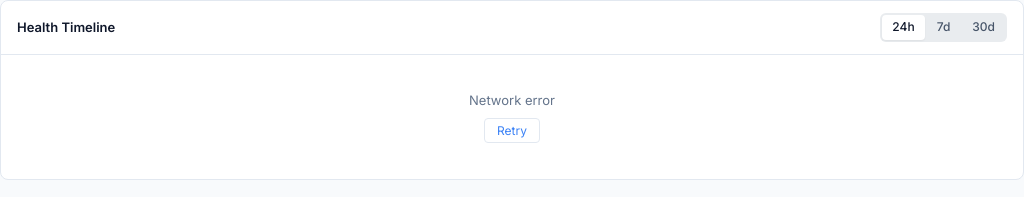
Test case: HealthTimeline › shows error state and allows retry
The width and height of the screenshot is (1024, 197).
Check: the text "Network error" is shown, box [469,91,555,110]
Click the button "Retry" at (512, 131), box [484,118,540,143]
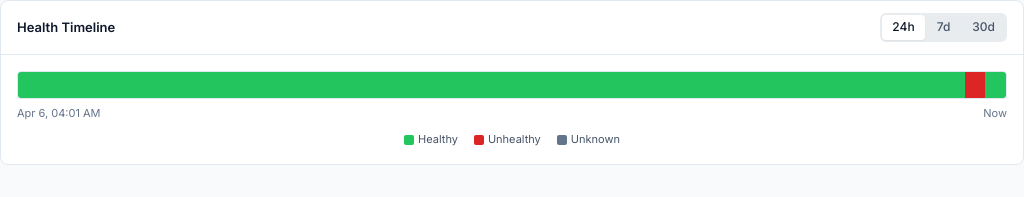
Check: the picture named "Health timeline" is shown, box [17,71,1007,99]
